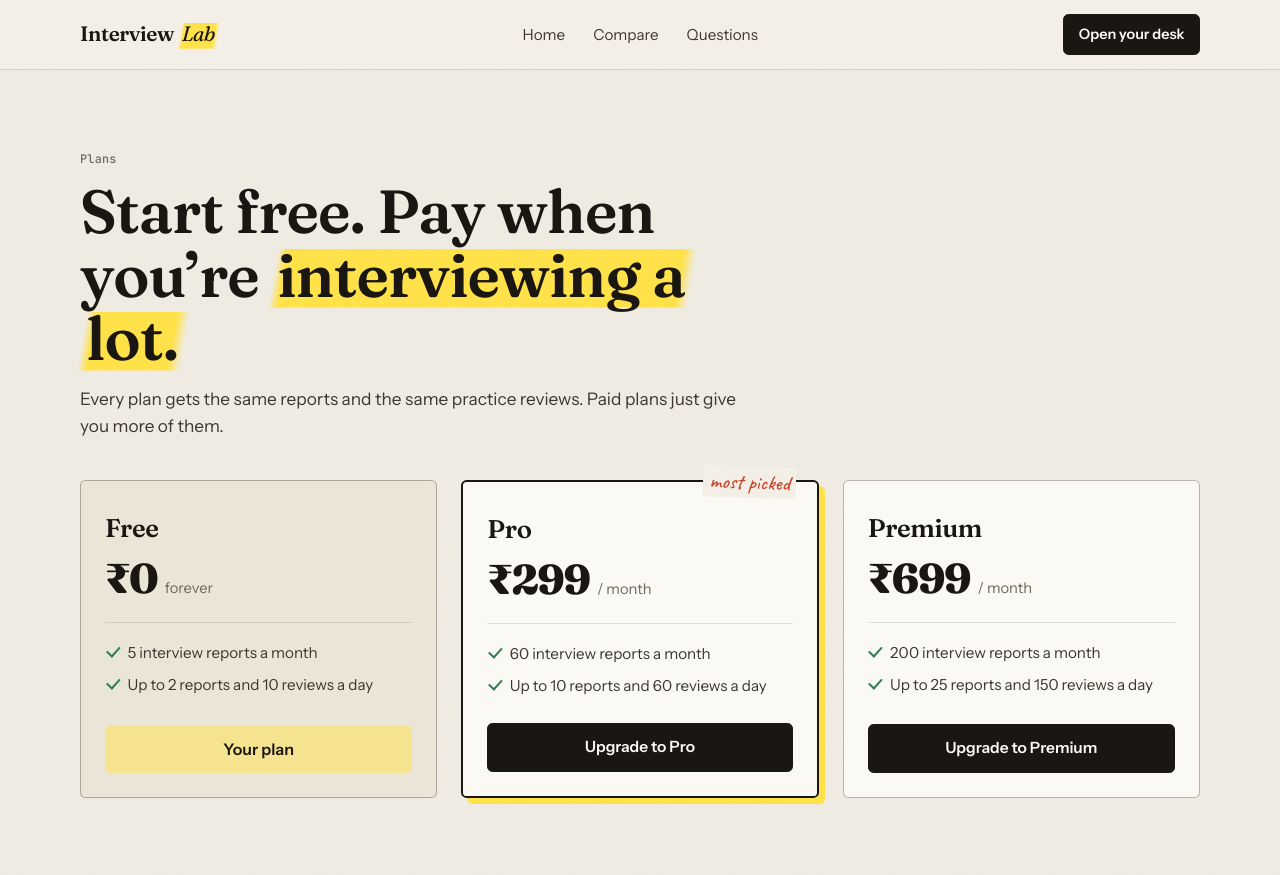
Test: checkout from Free › shows a failed payment
Click the button "Upgrade to Pro" at x=640, y=747, box x1=487 y1=723 x2=793 y2=772
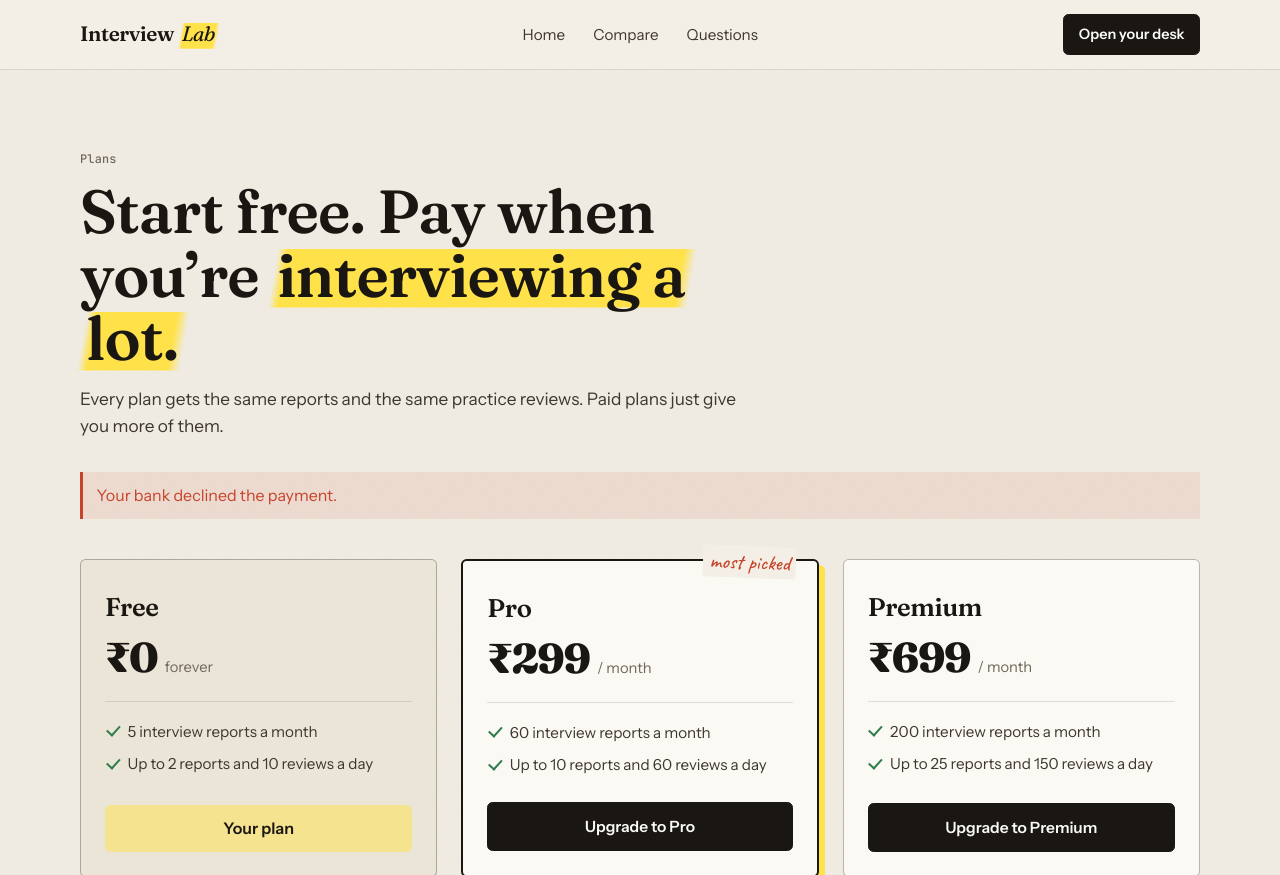
Check: the message reads "Your bank declined the payment.", box x1=97 y1=485 x2=337 y2=505
